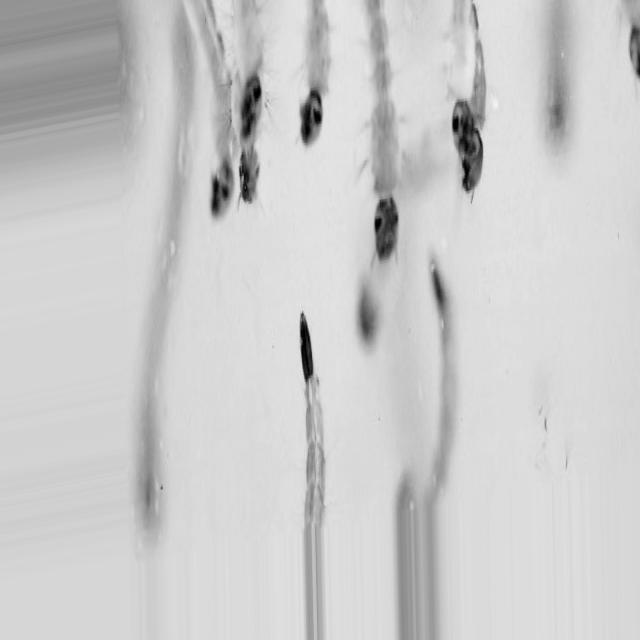larvas: (142, 102, 180, 484), (183, 1, 242, 221), (362, 5, 403, 261), (430, 265, 454, 476), (300, 315, 326, 505), (298, 2, 331, 148), (445, 5, 477, 155), (233, 1, 263, 145), (547, 0, 565, 141), (358, 258, 381, 344), (238, 148, 267, 211), (461, 116, 483, 198), (620, 0, 640, 73)
